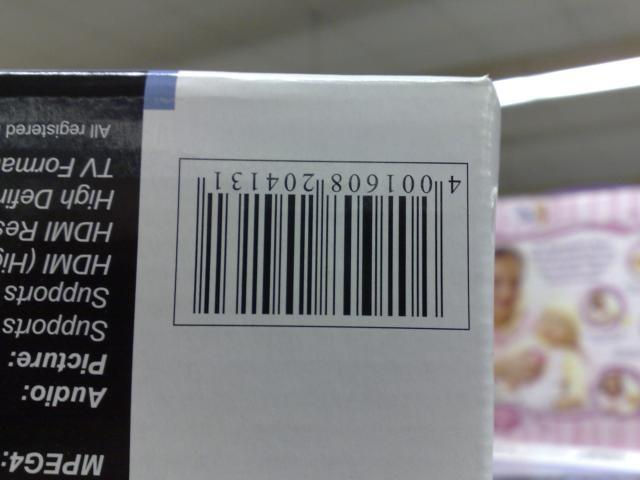Barcode: (186, 161, 467, 325)
